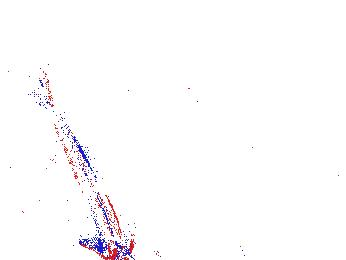glassfish: (29, 75, 135, 260)
